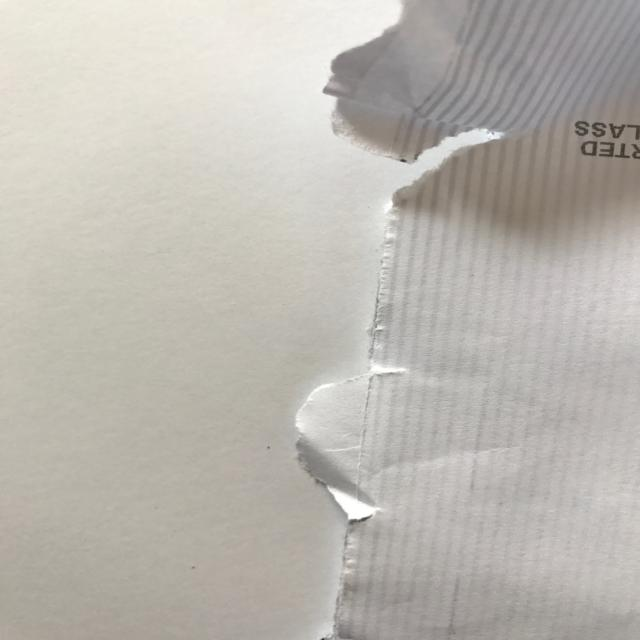Paper: (229, 0, 640, 640)
